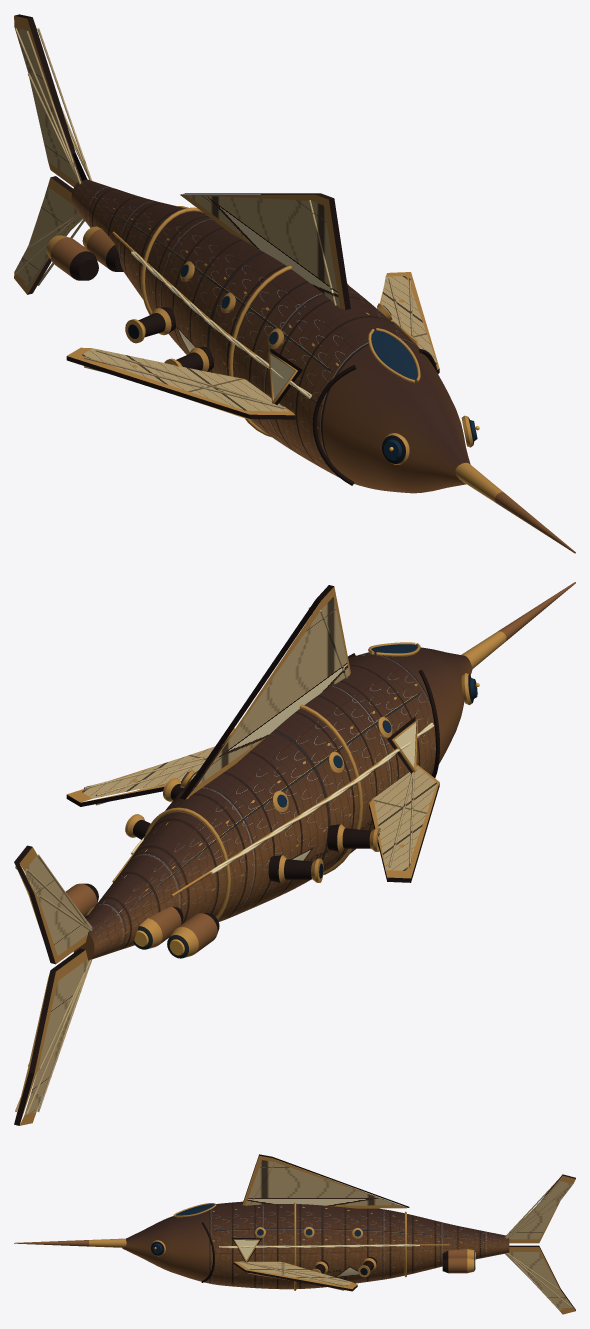
The picture shows the model from 3 angles, top to bottom: view 1: azimuth 30°, elevation 25°; view 2: azimuth 150°, elevation 25°; view 3: azimuth 270°, elevation 25°; orthographic projection. The views are drawn at different scales.
Parts seen in each view (by area): view 1: marlin_hull; view 2: marlin_hull; view 3: marlin_hull.
Part boxes in pixels (<box>): marlin_hull: <box>14,14,575,553</box>; marlin_hull: <box>14,582,575,1125</box>; marlin_hull: <box>14,1154,575,1314</box>.
Bounding box in the file's own units: 29.91 × 26.23 × 84.
Materials: 1 (1 with a texture image).
